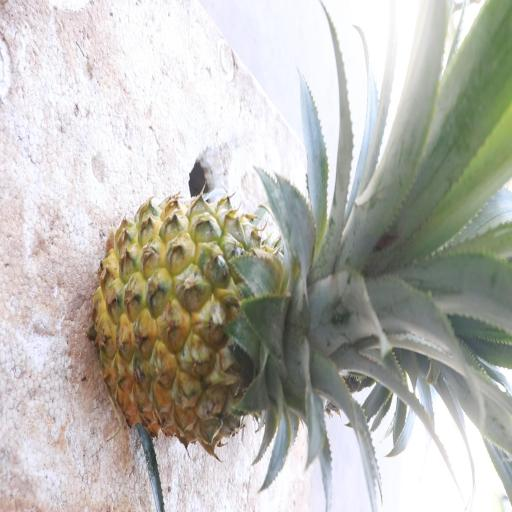Pineapple - v8 v1: (89, 186, 376, 465)
